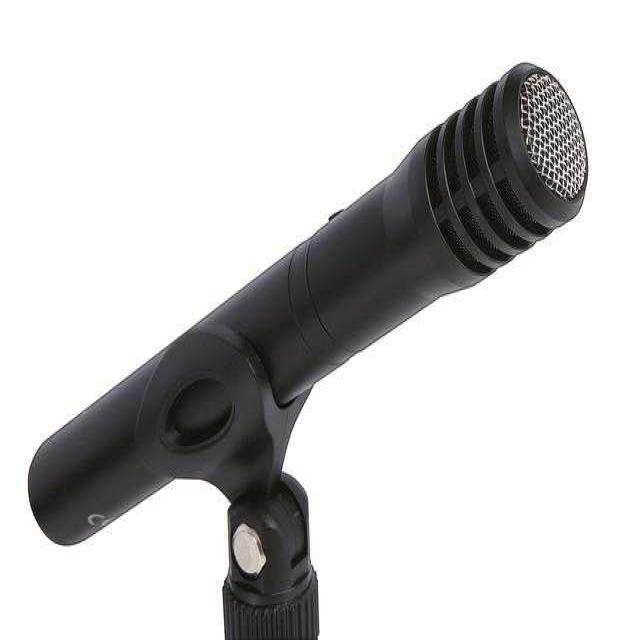microphone: (25, 67, 577, 625)
